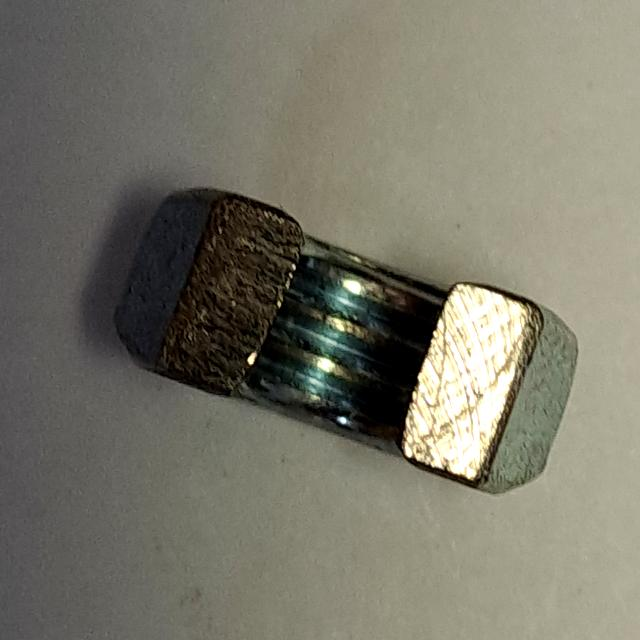Side-Fracture: (104, 175, 589, 511)
